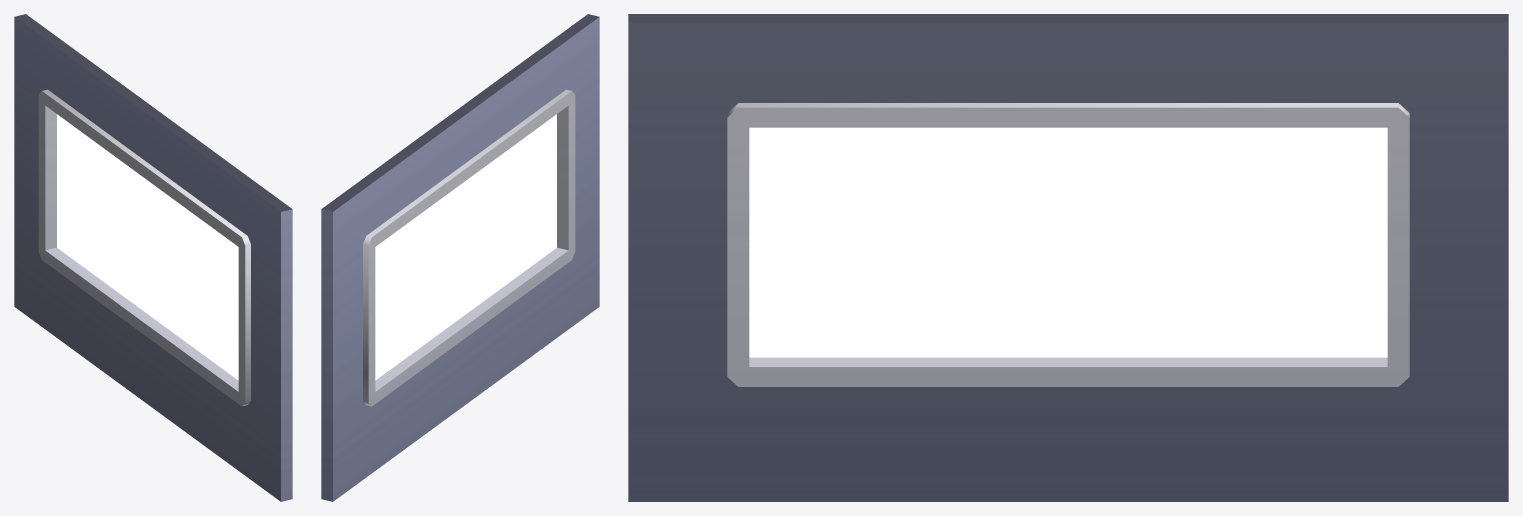
The model's file is part_wall_window_wide_square.fbx.
3 views of the same model, side by side, from view 1: azimuth 30°, elevation 25°; view 2: azimuth 150°, elevation 25°; view 3: azimuth 270°, elevation 25° (orthographic). The views are drawn at different scales.
Parts seen in each view (by area): view 1: wall-window-wide-square, (%ignore); view 2: wall-window-wide-square, (%ignore); view 3: wall-window-wide-square, (%ignore).
Part boxes in pixels (left/top/right/bottom): wall-window-wide-square: left=14, top=14, right=292, bottom=501; (%ignore): left=57, top=114, right=238, bottom=380; wall-window-wide-square: left=321, top=14, right=599, bottom=501; (%ignore): left=375, top=114, right=556, bottom=380; wall-window-wide-square: left=628, top=14, right=1508, bottom=501; (%ignore): left=749, top=127, right=1387, bottom=357.
Bounding box in the file's own units: 20 × 240 × 400.
2 materials, 1 textured.
